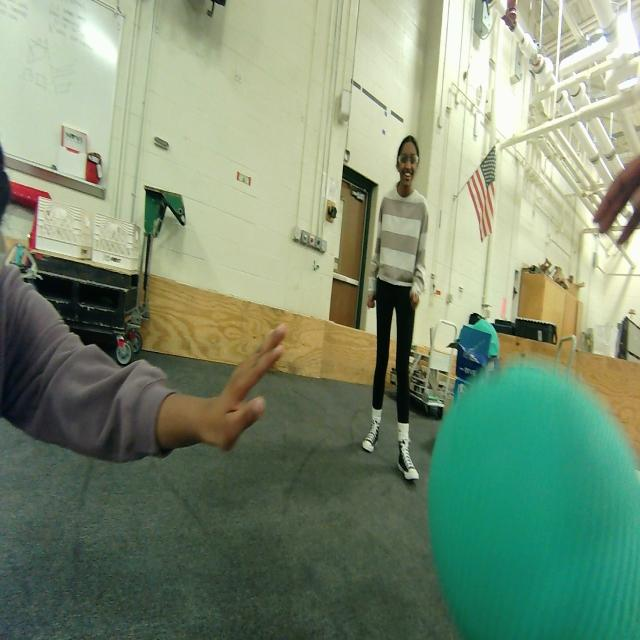algae: (420, 347, 640, 640)
